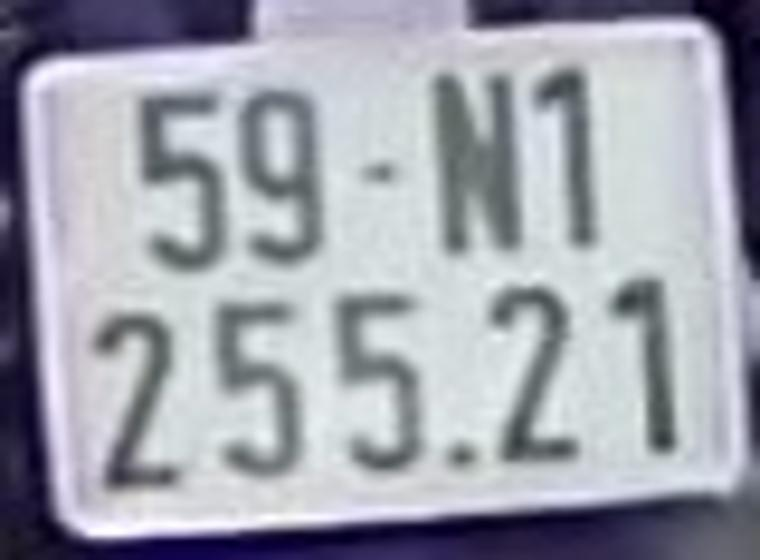-: (351, 163, 391, 183)
.: (447, 440, 469, 464)
1: (608, 279, 677, 449), (536, 70, 598, 243)
2: (488, 283, 579, 459), (93, 316, 178, 483)
5: (333, 299, 422, 468), (138, 96, 224, 270), (218, 301, 301, 477)
9: (242, 97, 325, 264)
N: (436, 74, 524, 254)
